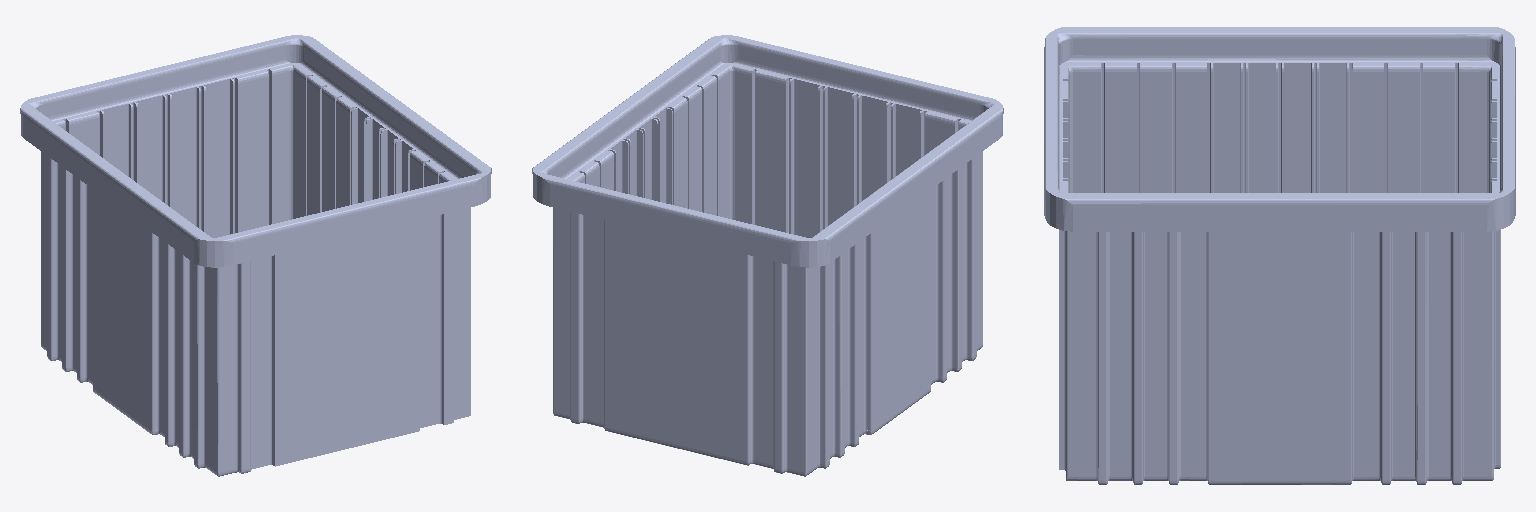
robot.urdf — tote:
<?xml version="1.0" encoding="utf-8"?>
<!-- This URDF was automatically created by SolidWorks to URDF Exporter! Originally created by [author] ([email redacted]) 
     Commit Version: 1.6.0-4-g7f85cfe  Build Version: 1.6.7995.38578
     For more information, please see http://wiki.ros.org/sw_urdf_exporter -->
<robot
  name="tote">
  <link
    name="base_link">
    <inertial>
      <origin
        xyz="1.5908E-05 -0.008485 9.4153E-05"  
        rpy="0 0 0" />
      <!-- <origin
        xyz="0 0 0"  
        rpy="0 0 0" /> -->
      <mass
        value="0.61805" />
      <!-- <inertia
        ixx="0.012856"
        ixy="3.3668E-08"
        ixz="-1.9611E-06"
        iyy="0.018165"
        iyz="7.4279E-07"
        izz="0.0063926" /> -->
      <inertia
        ixx="0.012856"
        ixy="3.3668E-08"
        ixz="-1.9611E-06"
        iyy="0.018165"
        iyz="7.4279E-07"
        izz="0.0063926" />
    </inertial>
    <visual>
      <origin
        xyz="0 0 0"
        rpy="0 0 0" />
      <geometry>
        <mesh
          filename="meshes/base_link.STL" scale="0.8 0.6 2.0" />
      </geometry>
      <material
        name="">
        <color
          rgba="0.79216 0.81961 0.93333 1" />
      </material>
    </visual>
    <collision>
      <origin
        xyz="0 0 0"
        rpy="0 0 0" />
      <geometry>
        <mesh
          filename="meshes/base_link.STL" scale="0.8 0.6 2.0" />
      </geometry>
    </collision>
  </link>
</robot>

--- Render facts (derived) ---
3 views of the same robot in one strip: view 1: azimuth 30°, elevation 25°; view 2: azimuth 150°, elevation 25°; view 3: azimuth 270°, elevation 25° (orthographic).
Model tote with 1 links and 0 joints (none), rooted at base_link, posed all joints at 0.
Links seen in each view (by area): view 1: base_link; view 2: base_link; view 3: base_link.
Boxes of the visible links, box(x1,y1,x2,y2) form: base_link: box(20, 35, 491, 476); base_link: box(532, 35, 1003, 476); base_link: box(1044, 27, 1515, 484).
Bounding box of the posed robot: 0.221 × 0.2534 × 0.1746 m (x, y, z).
1 mesh visuals loaded from 1 distinct referenced files (1 binary STL).
